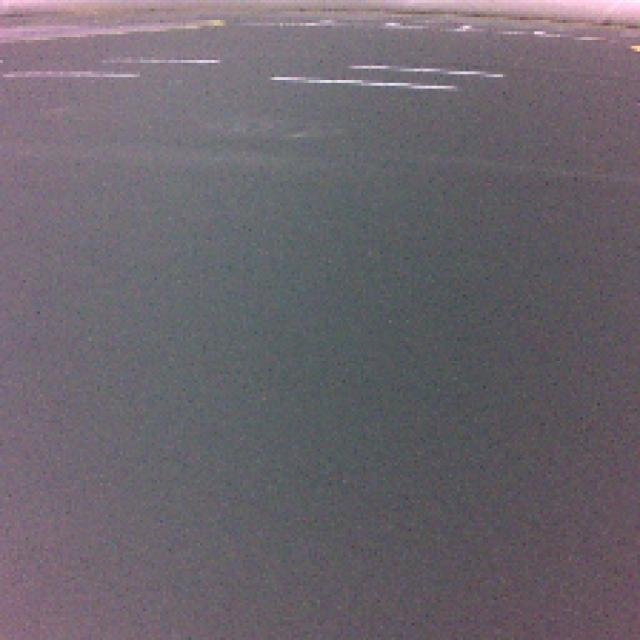Road: (0, 416, 639, 640)
